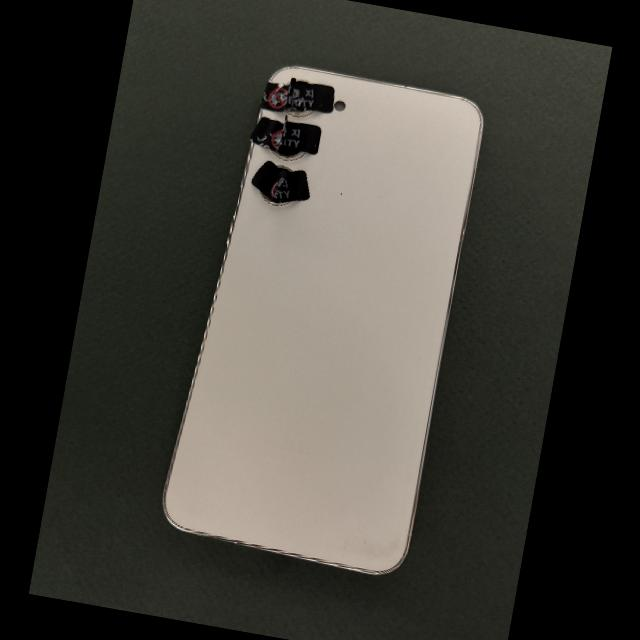lens: (272, 151, 305, 160), (260, 191, 276, 204), (286, 110, 315, 117)
phone: (163, 67, 482, 573)
sticker: (249, 114, 320, 154), (259, 77, 334, 112), (250, 160, 310, 201)
